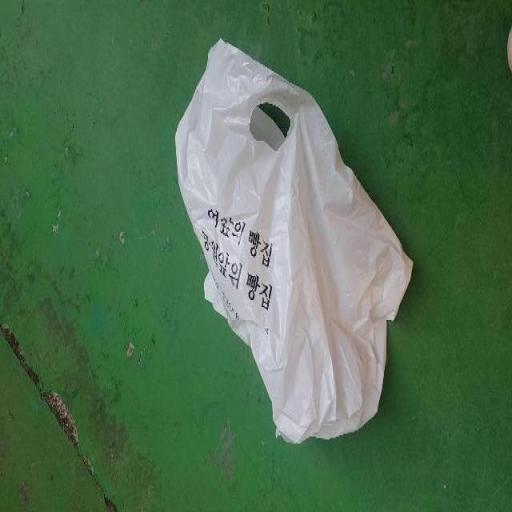plastic-bag: (174, 32, 418, 448)
